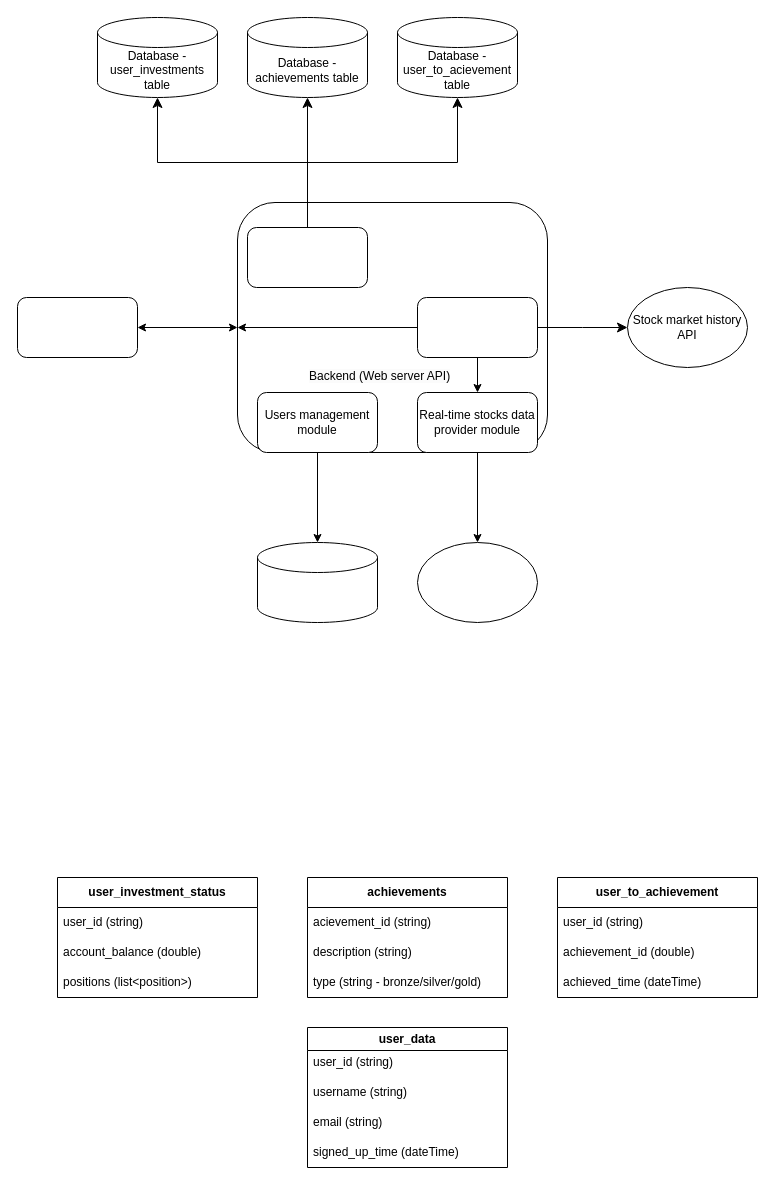
Image size: 775x1185. Some labels were removed from this diagram. Each missing label, with the centre of its shape:
"Database - user_data table" goes at [317,582].
"Investment advisor gateway module" goes at [477,327].
"Real-time stock market API" goes at [477,582].
"Simulator management module" goes at [307,257].
"UI" goes at [77,327].
